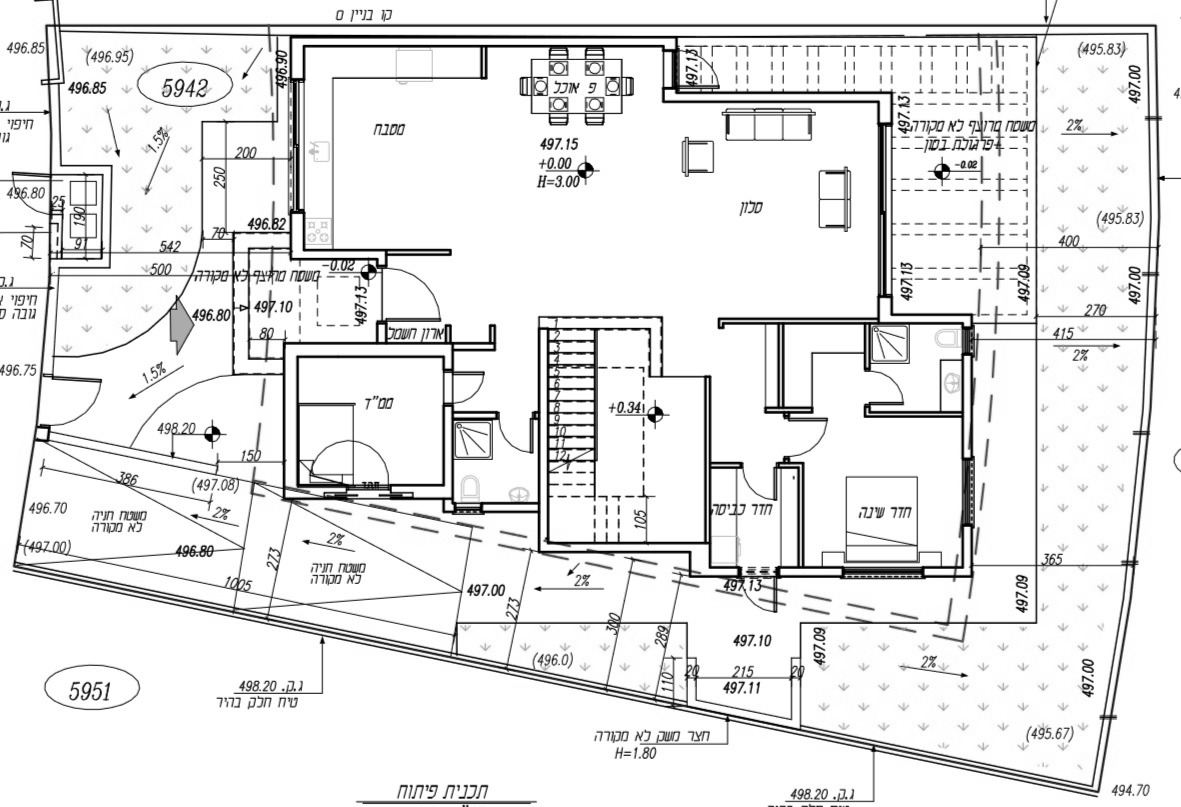door: (374, 262, 446, 328), (33, 367, 105, 433), (487, 410, 542, 460), (726, 459, 781, 509), (779, 412, 834, 462), (858, 362, 913, 412), (434, 371, 490, 409), (726, 575, 782, 613)
window: (872, 116, 903, 302), (281, 77, 314, 218), (953, 447, 984, 542), (834, 564, 934, 586), (340, 481, 402, 504)
